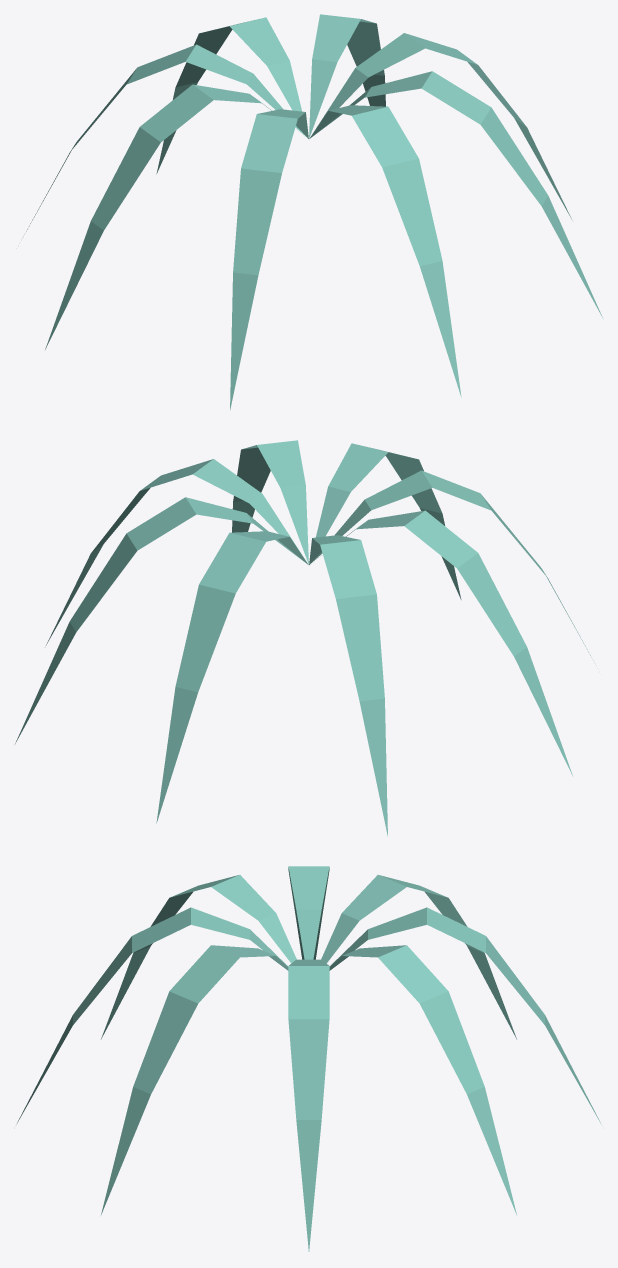
File: agave.obj
3 renders of one model, top to bottom at view 1: azimuth 30°, elevation 25°; view 2: azimuth 150°, elevation 25°; view 3: azimuth 270°, elevation 25°, orthographic. The views are drawn at different scales.
Parts seen in each view (by area): view 1: agave; view 2: agave; view 3: agave.
Boxes of the visible parts, x1,y1,x2,y2 form: agave: (24, 14, 602, 410); agave: (15, 440, 593, 836); agave: (17, 866, 600, 1251).
Size of the model in its own units: 3 by 1.2 by 3.
